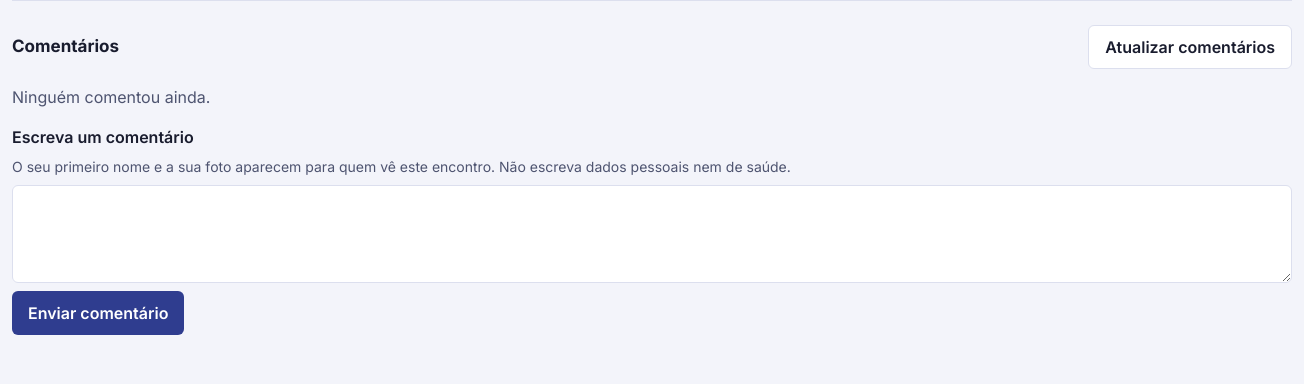
Test: comentários do encontro › mostra a recusa do servidor por limite de envio com o texto literal
Type "oi" into the text box labelled "Escreva um comentário".
click(652, 234); type("oi")  # box left=12, top=185, right=1292, bottom=283
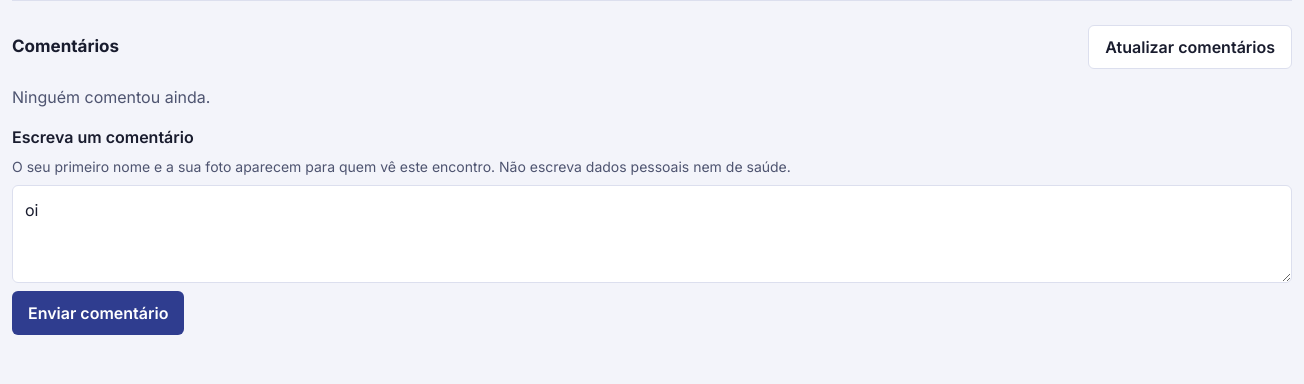
Click the button "Enviar comentário".
click(98, 313)  # box left=12, top=291, right=184, bottom=335
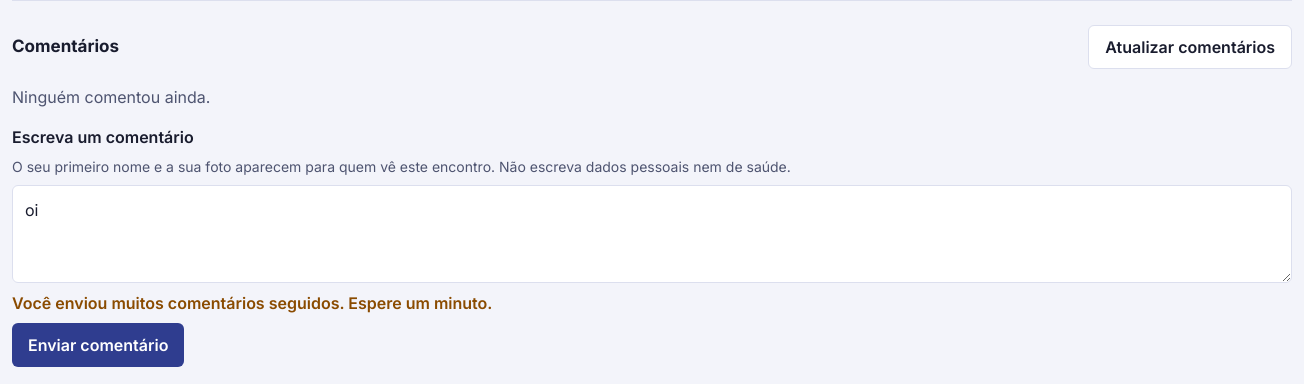
Expected: the message reads "Você enviou muitos comentários seguidos. Espere um minuto.", left=12, top=293, right=492, bottom=313
